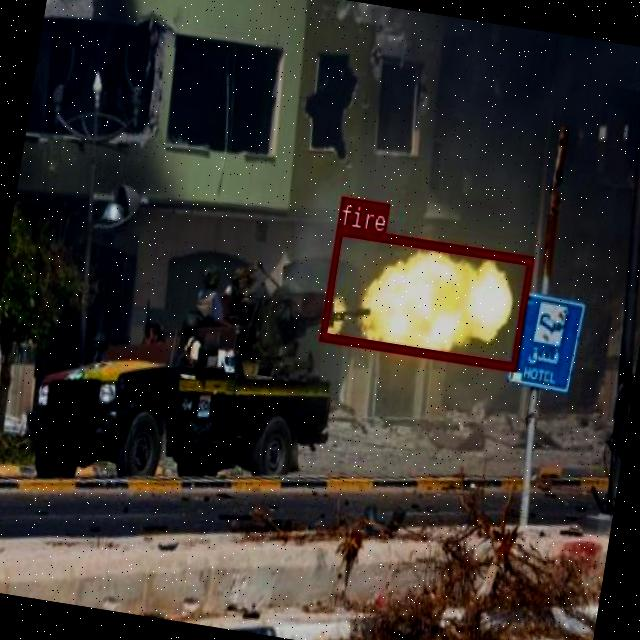fire: (320, 224, 534, 370)
